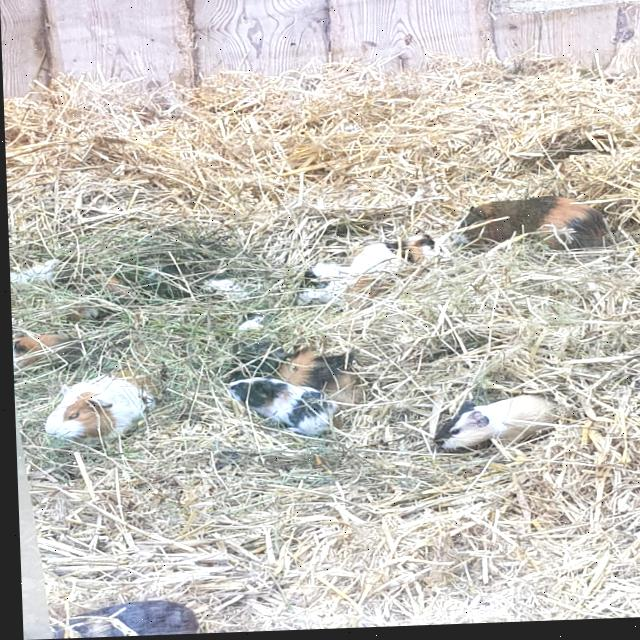guinea pig: (449, 199, 609, 257), (38, 372, 154, 445), (223, 378, 337, 443), (425, 399, 553, 455), (48, 599, 196, 639)
